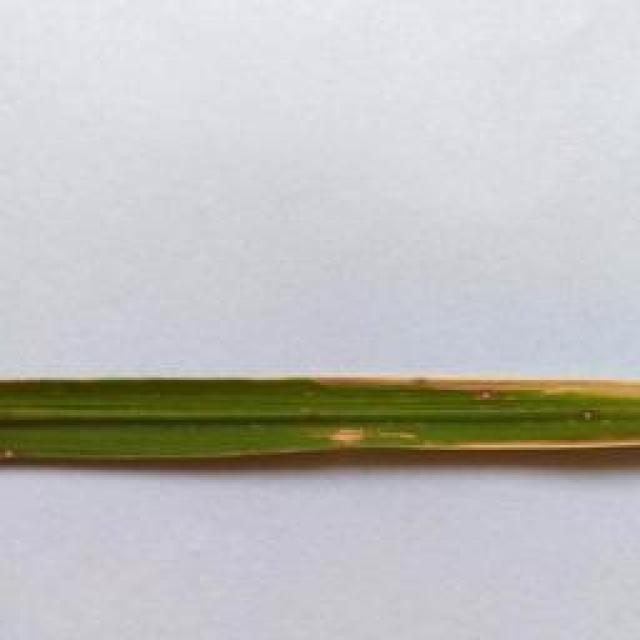Unhealthy: (315, 379, 640, 402), (452, 439, 640, 448), (322, 426, 365, 445), (580, 407, 594, 422)
